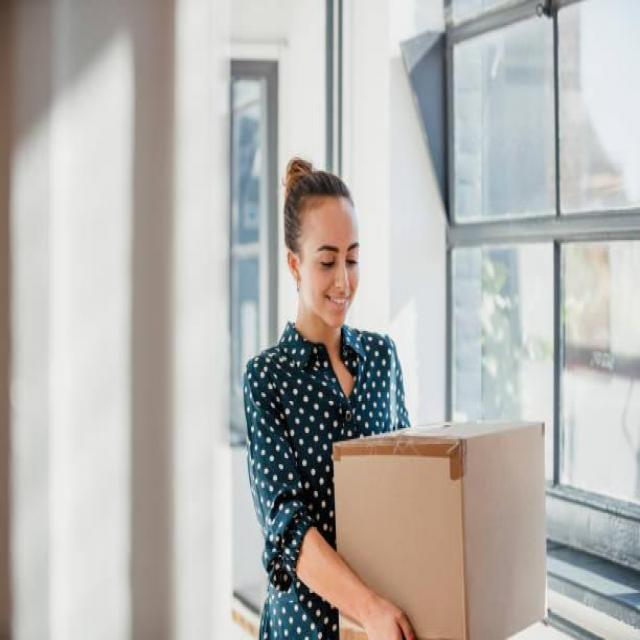box: (330, 401, 547, 640)
